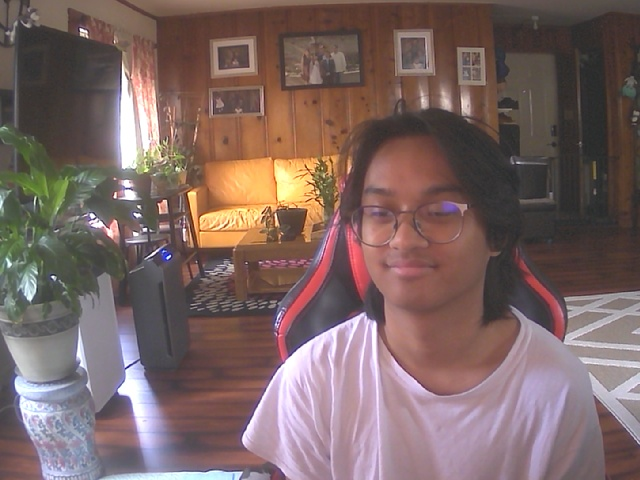happy: (345, 122, 507, 313)
